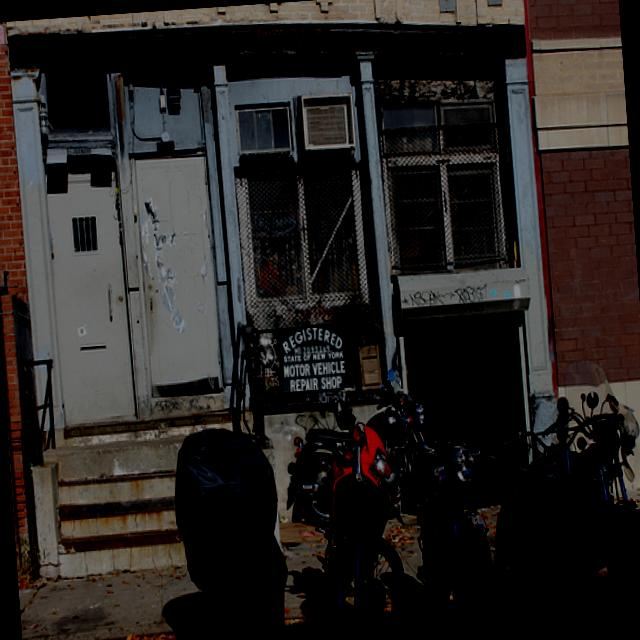Vehicle: (403, 352, 640, 633), (165, 417, 293, 640), (310, 392, 413, 640), (286, 390, 434, 532)
